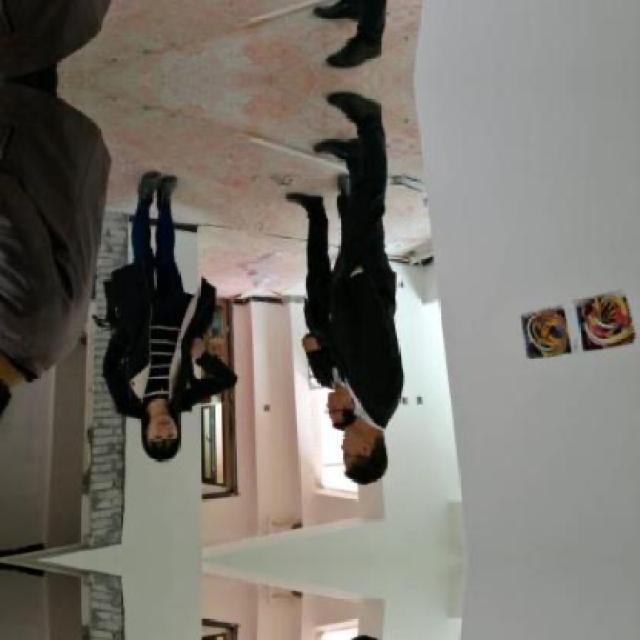sin casco: (110, 396, 192, 482), (333, 398, 396, 497)
